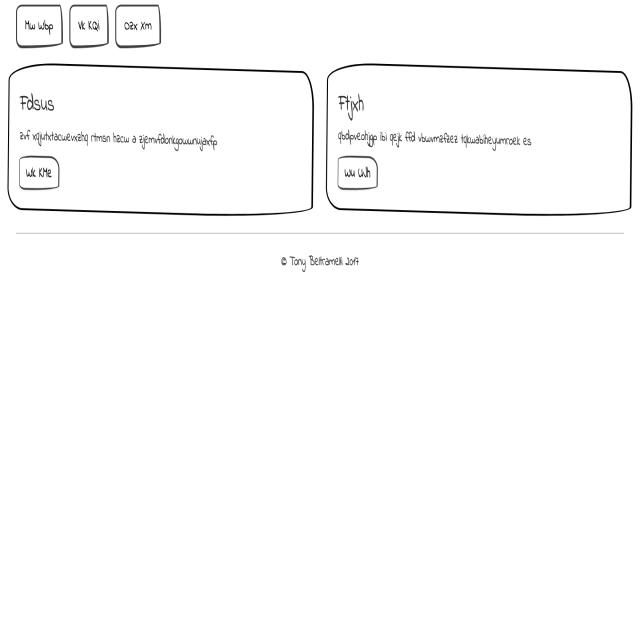Button: (333, 149, 378, 196), (15, 155, 66, 195)
Card: (327, 58, 634, 224), (7, 62, 315, 220)
Footer: (3, 232, 640, 639)
Heading 6: (16, 73, 62, 120), (334, 79, 374, 126)
Navigation Bar: (8, 0, 186, 61)
Paragraph: (16, 120, 228, 156), (333, 127, 544, 154)
